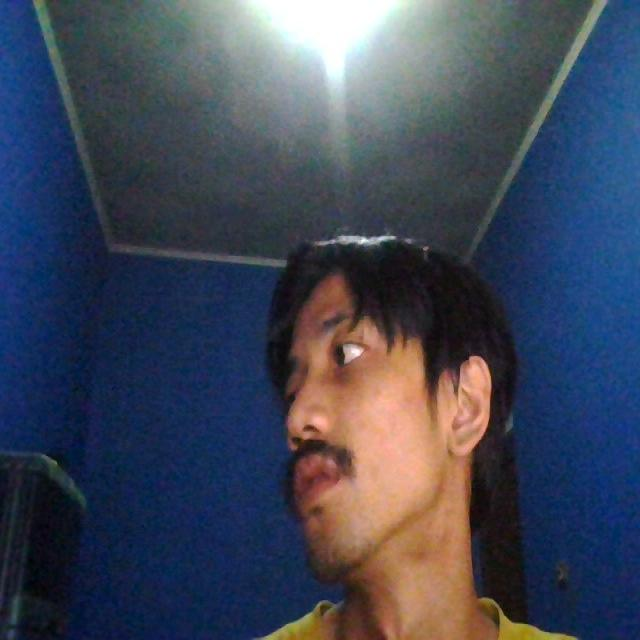Melihat kekanan: (219, 242, 535, 600)
